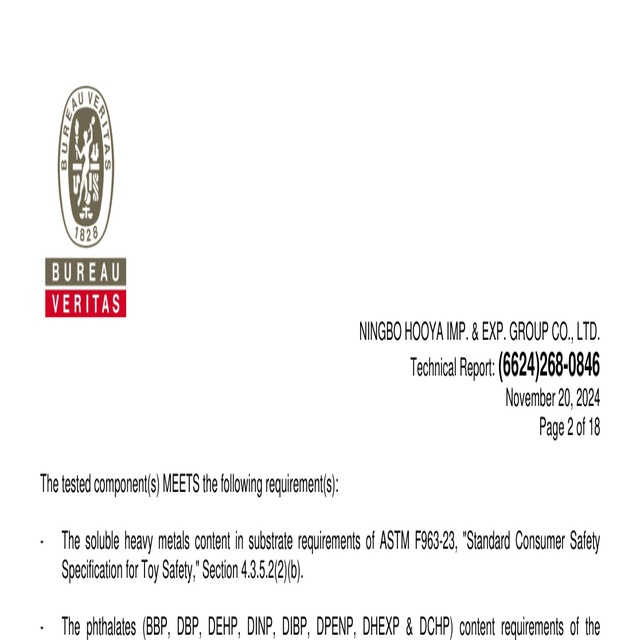bureau_veritas: (44, 81, 133, 326)
